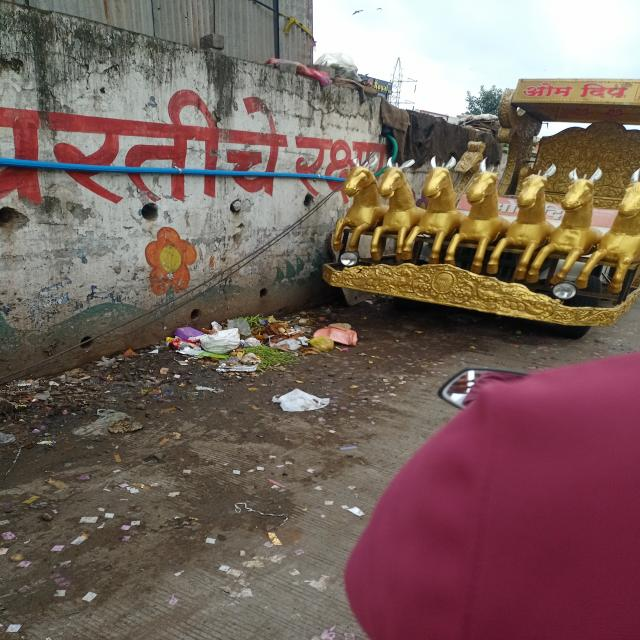garbage: (159, 305, 370, 402)
